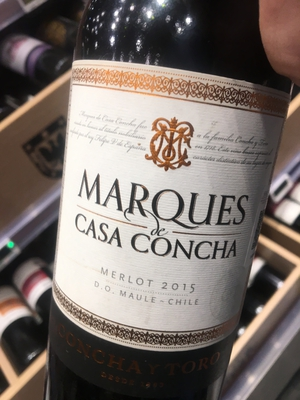marques de casa concha merlot: (47, 6, 293, 400)
